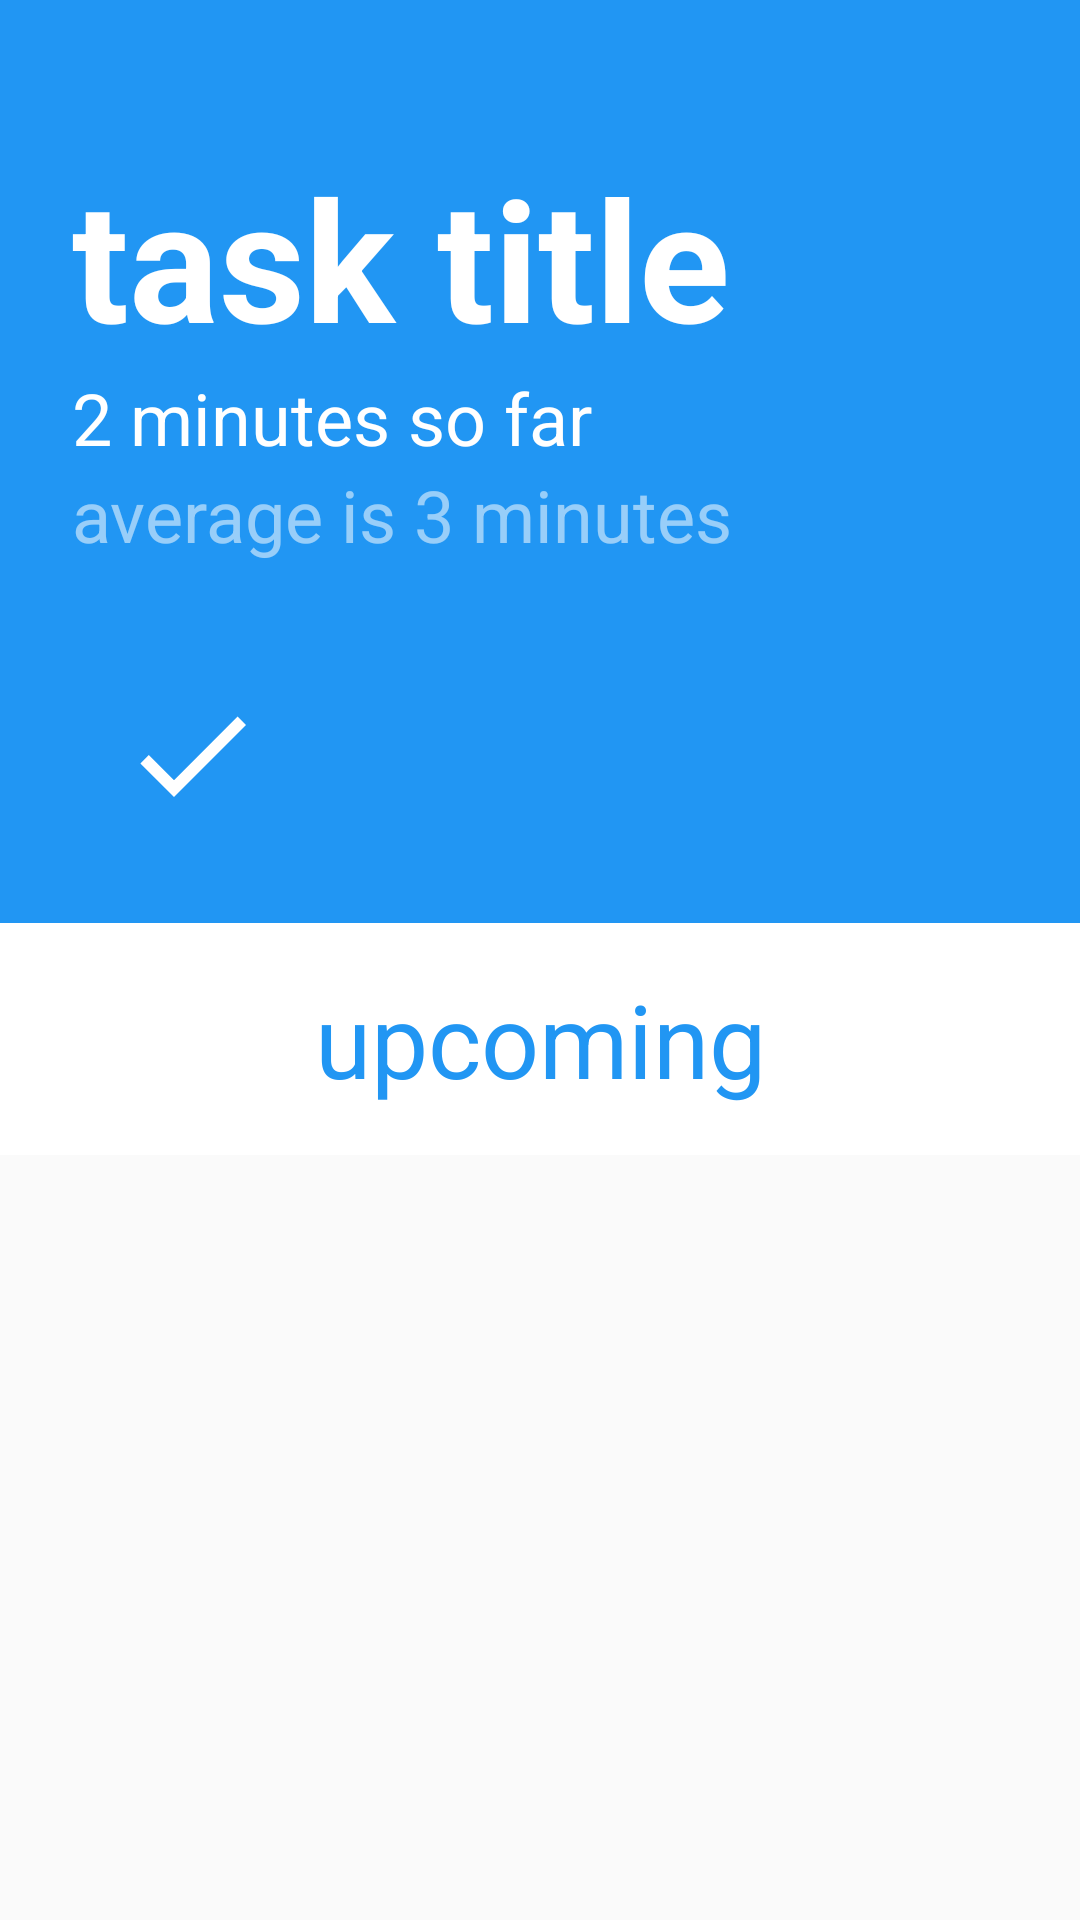

Screen size 1080px x 1920px. Icon name, then its box in pixels as (x1, y1, x2, y2):
done: (140, 716, 246, 797)
